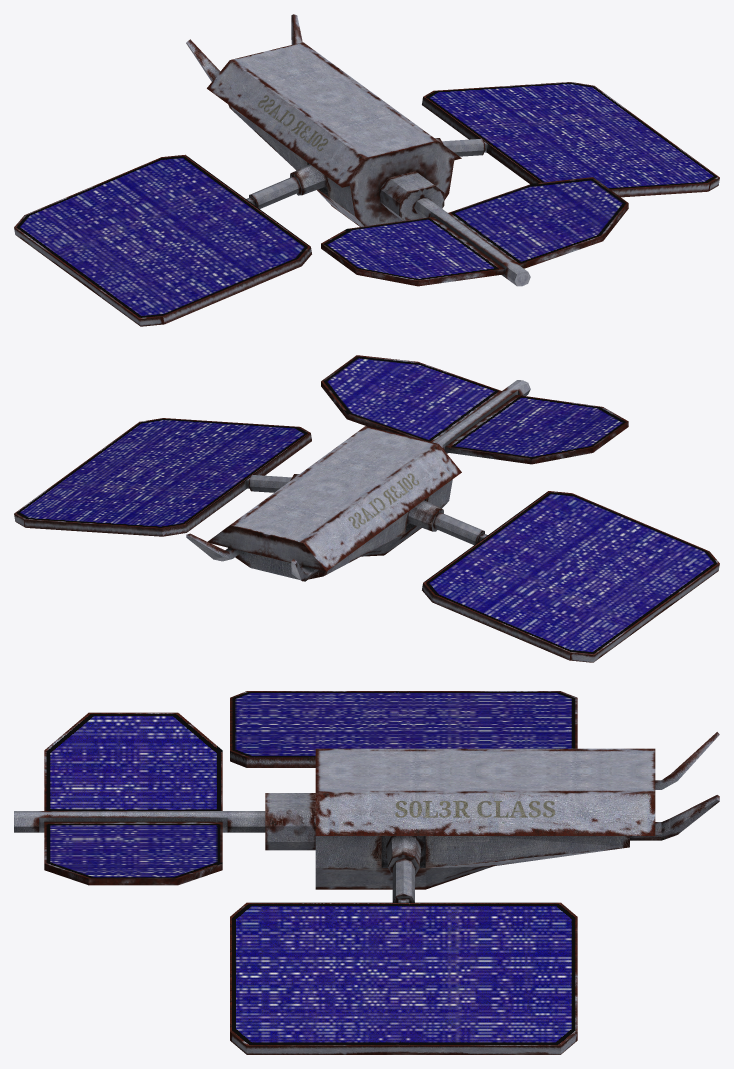
The model's file is Satelite.obj.
3 renders of one model, top to bottom at view 1: azimuth 30°, elevation 25°; view 2: azimuth 150°, elevation 25°; view 3: azimuth 270°, elevation 25°, orthographic. The views are drawn at different scales.
Visible parts, largest first — view 1: Satelite; view 2: Satelite; view 3: Satelite.
Boxes of the visible parts, box(x1,y1,x2,y2) form: Satelite: box(14, 14, 719, 326); Satelite: box(14, 355, 719, 662); Satelite: box(14, 691, 719, 1054).
Size of the model in its own units: 13.35 by 2.02 by 11.23.
1 material, 1 textured.
